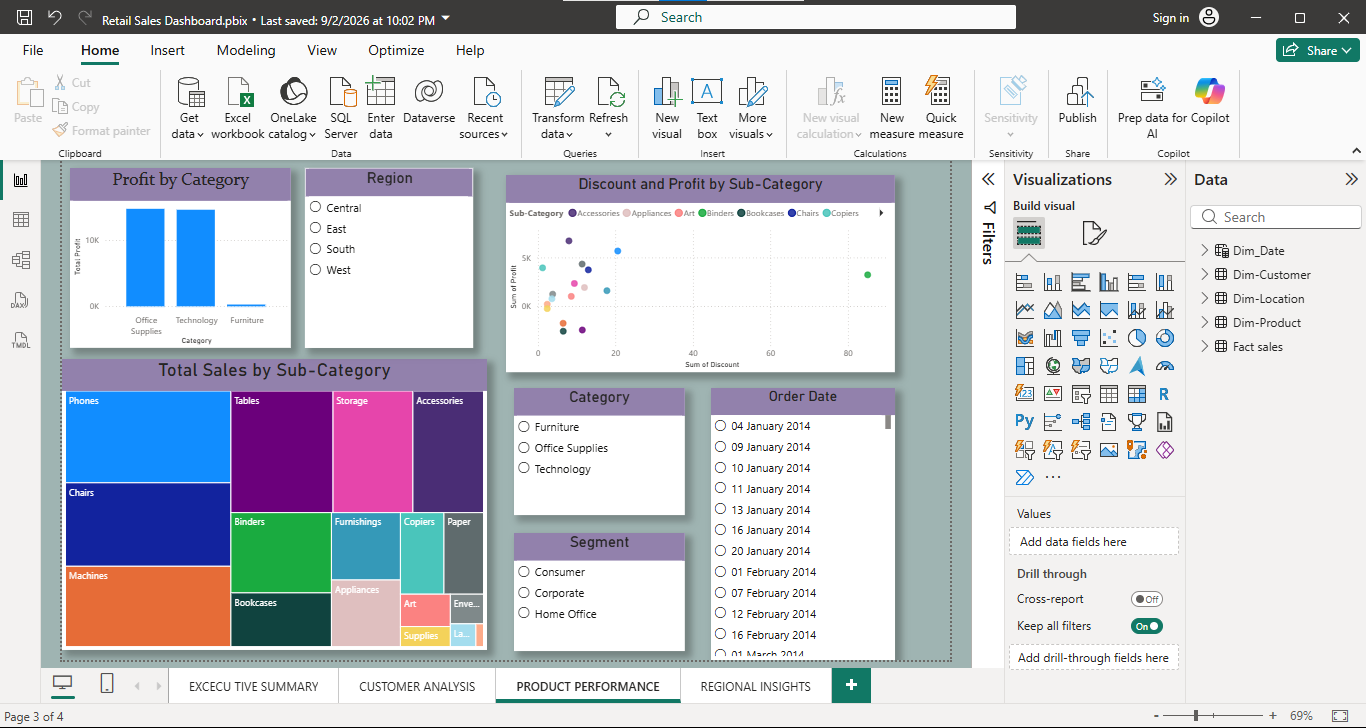

What the dashboard file says about the page in this screenshot:
{"tool":"powerbi","page":{"name":"PRODUCT PERFORMANCE","canvas":[1280,720],"ordinal":2},"visuals":[{"type":"clusteredColumnChart","title":" Profit by Category","fields":{"Category":["Dim-Product.Category"],"Y":["Fact sales.Total Profit"]},"box":[11.5,11.5,318.2,259.2],"z":0},{"type":"treemap","fields":{"Group":["Dim-Product.Sub-Category"],"Values":["Fact sales.Total Sales"]},"box":[0,286.6,612,419],"z":1000},{"type":"scatterChart","title":" Discount and Profit by Sub-Category","fields":{"X":["Sum(Fact sales.Discount)"],"Y":["Sum(Fact sales.Profit)"],"Series":["Dim-Product.Sub-Category"]},"box":[639.4,21.6,560.2,283.7],"z":2000},{"type":"listSlicer","fields":{"Values":["Fact sales.Region"]},"box":[349.9,11.5,241.9,259.2],"z":3000},{"type":"listSlicer","fields":{"Values":["Dim-Product.Category"]},"box":[650.9,328.3,246.2,182.9],"z":4000},{"type":"listSlicer","fields":{"Values":["Dim-Customer.Segment"]},"box":[650.9,537.1,246.2,169.9],"z":5000},{"type":"listSlicer","fields":{"Values":["Fact sales.Order Date"]},"box":[934.6,328.3,265,391.7],"z":6000}]}

Visuals, with their boxes on the page's 1280x720 design canvas (x1, y1, x2, y2). These are canvas units, not pixel positions in the 1366x728 screenshot, which may show the page scaled, cropped or inside an application window:
" Profit by Category" clusteredColumnChart: (x1=12, y1=12, x2=330, y2=271)
treemap - Dim-Product.Sub-Category x Fact sales.Total Sales: (x1=0, y1=287, x2=612, y2=706)
" Discount and Profit by Sub-Category" scatterChart: (x1=639, y1=22, x2=1200, y2=305)
listSlicer - Fact sales.Region: (x1=350, y1=12, x2=592, y2=271)
listSlicer - Dim-Product.Category: (x1=651, y1=328, x2=897, y2=511)
listSlicer - Dim-Customer.Segment: (x1=651, y1=537, x2=897, y2=707)
listSlicer - Fact sales.Order Date: (x1=935, y1=328, x2=1200, y2=720)
